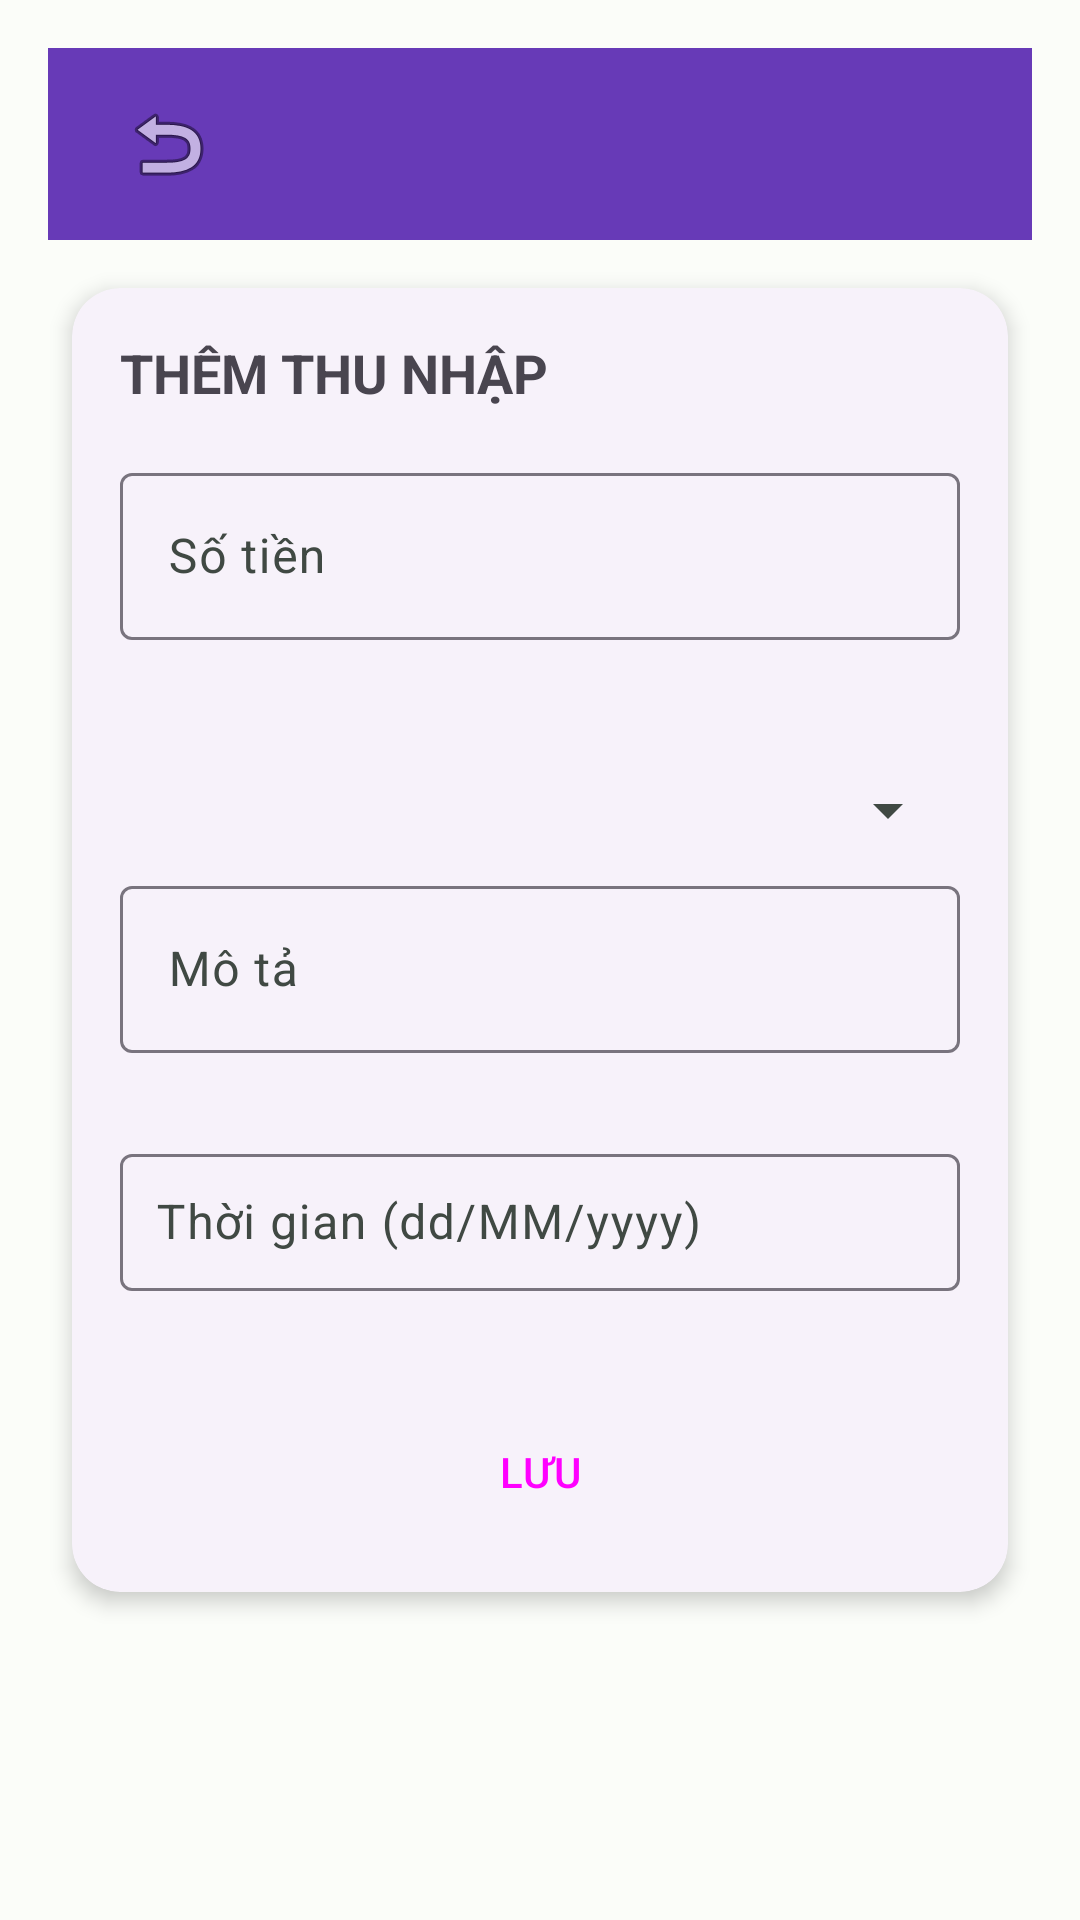

Named icons in this screenshot (1080*1920) and their bounding boxes, (x1, y1, x2, y2):
Quay lại: (135, 113, 204, 176)
